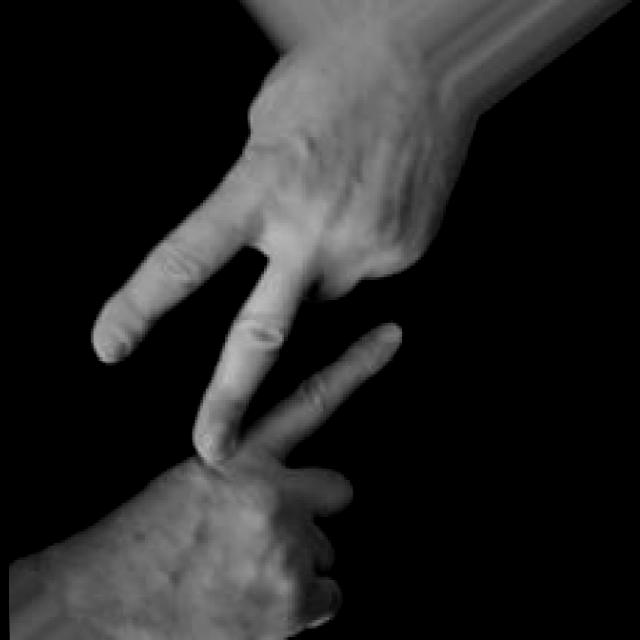Z: (1, 49, 469, 637)
